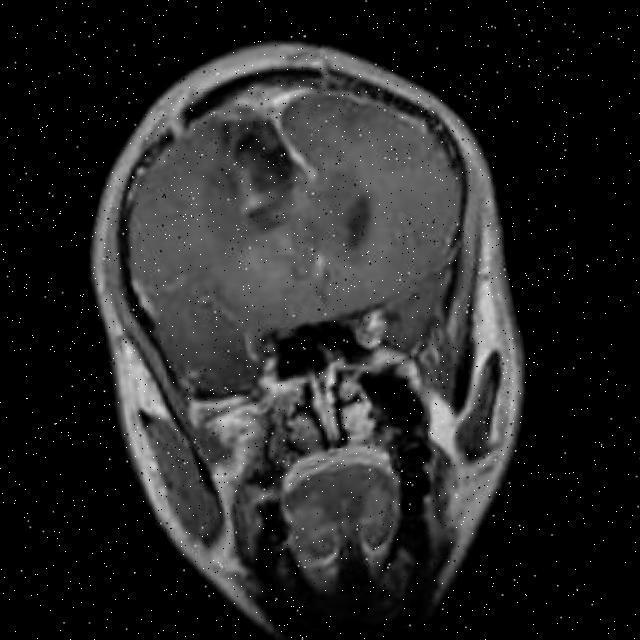MCI: (192, 112, 469, 255)
